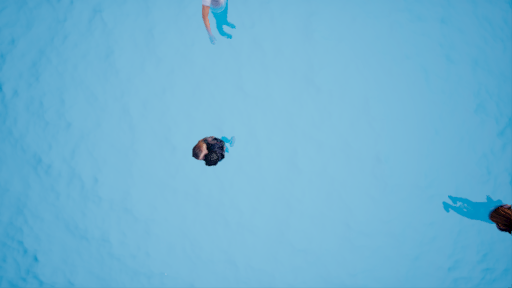person: (187, 131, 239, 170)
